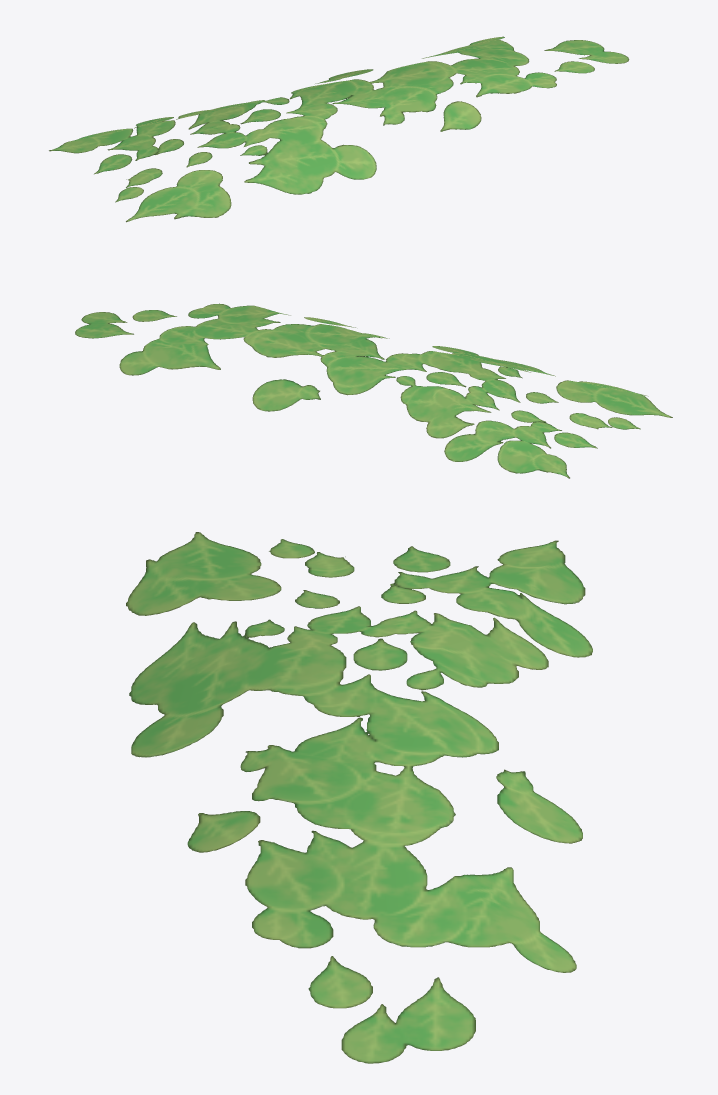
Rendered from LeafSetG_17.fbx.
The picture shows the model from 3 angles, top to bottom: view 1: azimuth 30°, elevation 25°; view 2: azimuth 150°, elevation 25°; view 3: azimuth 270°, elevation 25°; orthographic projection. The views are drawn at different scales.
Parts seen in each view (by area): view 1: LeafSetG_17; view 2: LeafSetG_17; view 3: LeafSetG_17.
Boxes of the visible parts, x1,y1,x2,y2 form: LeafSetG_17: [49, 36, 629, 222]; LeafSetG_17: [75, 303, 672, 478]; LeafSetG_17: [126, 532, 592, 1063].
Bounding box in the file's own units: 1.51 × 0.0752 × 0.5512.
